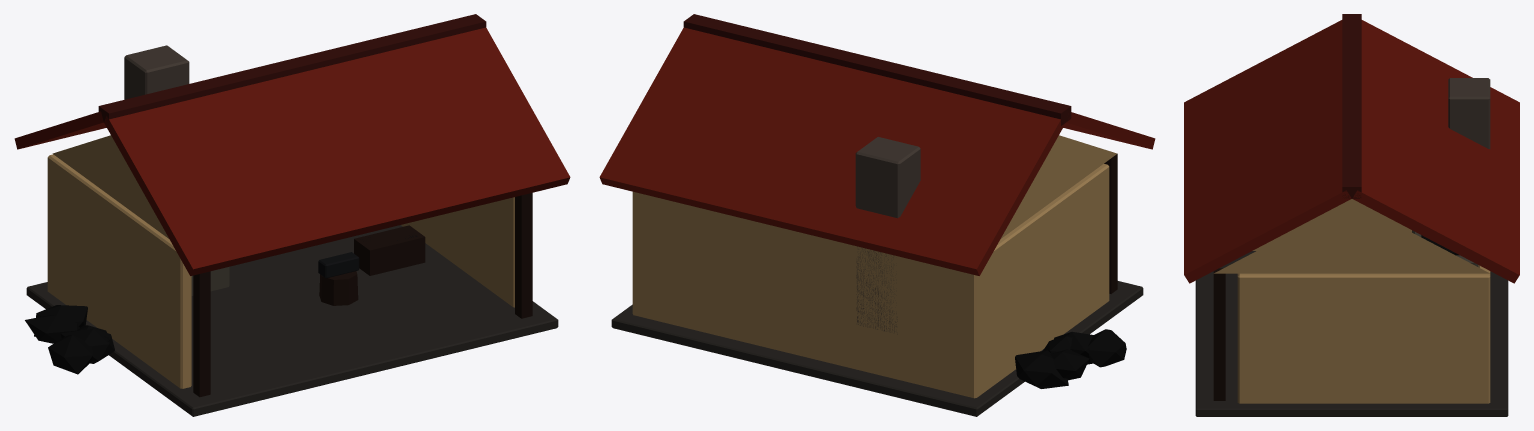
The model's file is smithy.fbx.
The picture shows the model from 3 angles, left to right: view 1: azimuth 30°, elevation 25°; view 2: azimuth 150°, elevation 25°; view 3: azimuth 270°, elevation 25°; orthographic projection. The views are drawn at different scales.
Parts seen in each view (by area): view 1: smithy; view 2: smithy; view 3: smithy.
Part boxes in pixels (x1=…): smithy: x1=14, y1=14, x2=570, y2=416; smithy: x1=599, y1=14, x2=1155, y2=416; smithy: x1=1184, y1=14, x2=1519, y2=416.
Bounding box in the file's own units: 7.78 × 4.37 × 5.58.
